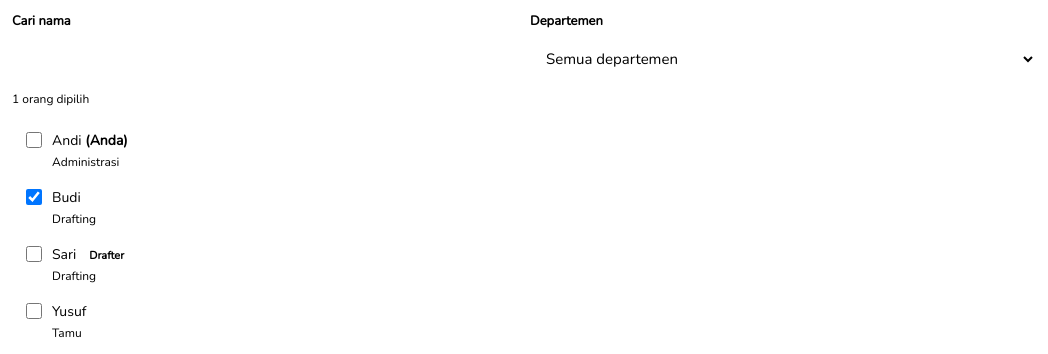
Test: PeoplePicker › saringan Tamu hanya memuat Tamu
Select "Tamu" in the dropdown labelled "Departemen" at (783, 58), box [530,38,1036,80]
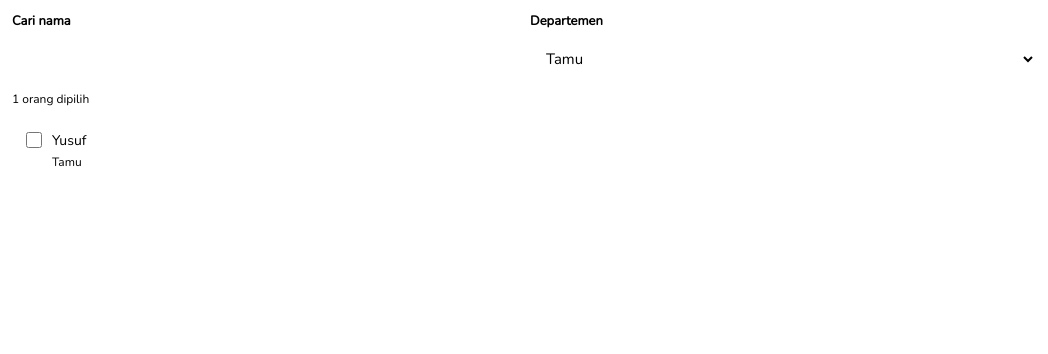
Result: the number of checkboxes is 1 at [26,132,42,148]
